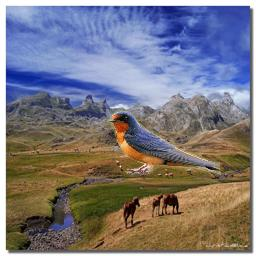Swallow: (106, 109, 221, 178)
